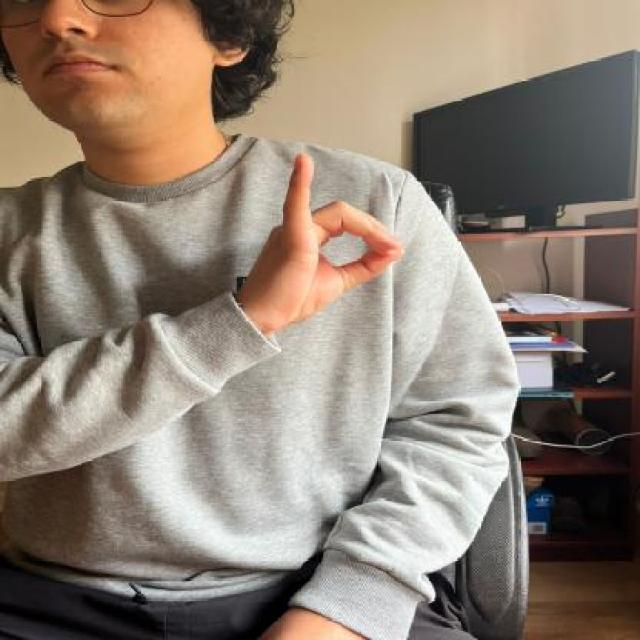D: (231, 145, 411, 332)
